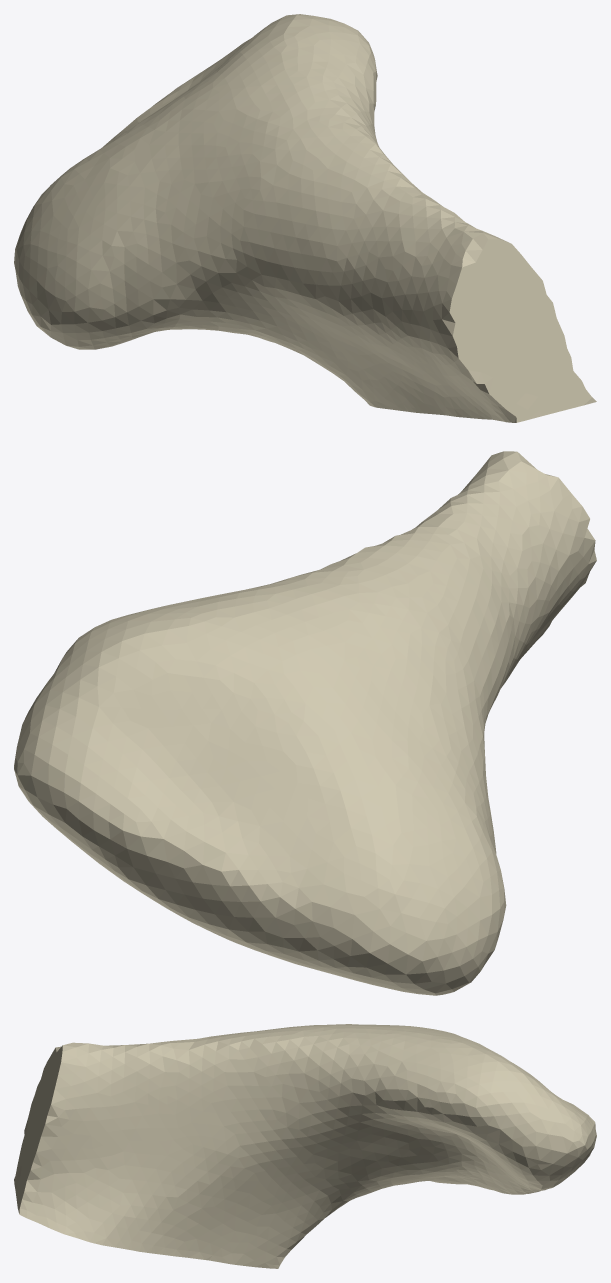
The picture shows the model from 3 angles, top to bottom: view 1: azimuth 30°, elevation 25°; view 2: azimuth 150°, elevation 25°; view 3: azimuth 270°, elevation 25°; orthographic projection. The views are drawn at different scales.
Parts seen in each view (by area): view 1: Shape_IndexedFaceSet.005; view 2: Shape_IndexedFaceSet.005; view 3: Shape_IndexedFaceSet.005.
Boxes of the visible parts, x1,y1,x2,y2 form: Shape_IndexedFaceSet.005: (14, 14, 596, 422); Shape_IndexedFaceSet.005: (14, 451, 596, 995); Shape_IndexedFaceSet.005: (14, 1024, 596, 1268).
Size of the model in its own units: 1993 by 1570 by 3510.
